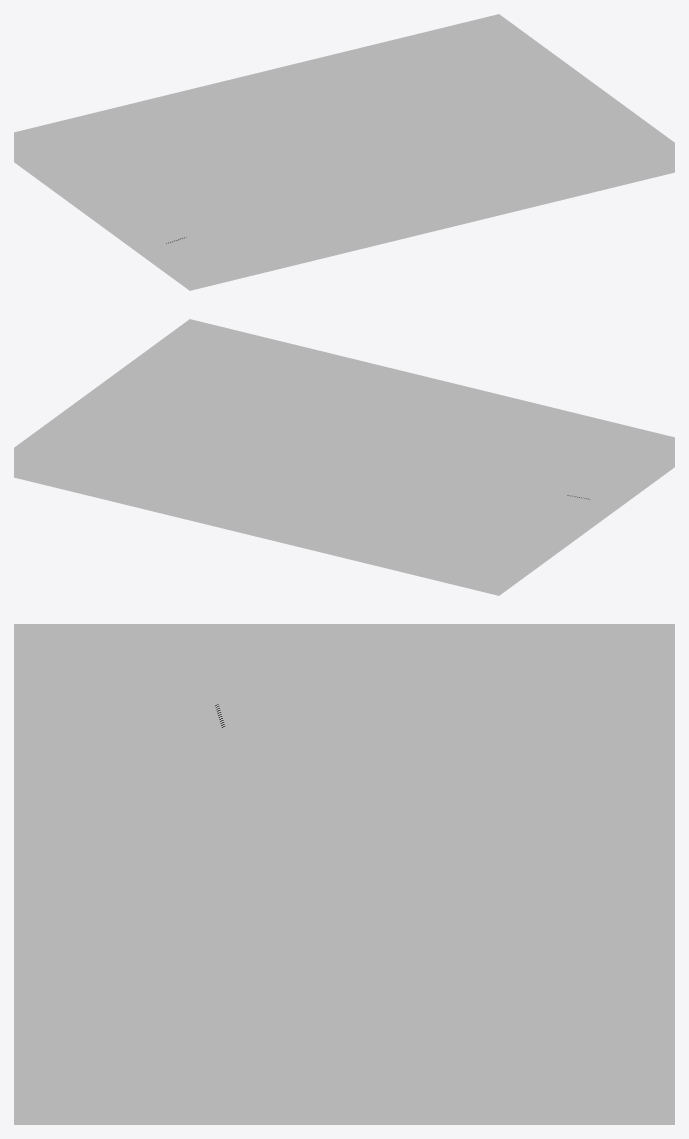
The model's file is 2022_august_open_ccw.dae.
The picture shows the model from 3 angles, top to bottom: view 1: azimuth 30°, elevation 25°; view 2: azimuth 150°, elevation 25°; view 3: azimuth 270°, elevation 25°; orthographic projection. The views are drawn at different scales.
Parts seen in each view (by area): view 1: field, wall, road, ol, il, cl; view 2: field, wall, road, ol, il, cl; view 3: field, wall, road, il, ol, cl.
Boxes of the visible parts, bbox=[...] form: field: bbox=[45, 44, 643, 260]; wall: bbox=[14, 14, 674, 290]; road: bbox=[99, 69, 543, 257]; ol: bbox=[129, 82, 513, 245]; il: bbox=[96, 68, 545, 258]; cl: bbox=[113, 75, 528, 252]; field: bbox=[45, 349, 643, 565]; wall: bbox=[14, 319, 674, 595]; road: bbox=[74, 421, 602, 556]; ol: bbox=[103, 434, 572, 543]; il: bbox=[72, 420, 605, 556]; cl: bbox=[88, 427, 587, 549]; field: bbox=[14, 680, 674, 1068]; wall: bbox=[14, 624, 674, 1124]; road: bbox=[65, 702, 623, 1068]; il: bbox=[61, 700, 627, 1068]; ol: bbox=[122, 725, 566, 1068]; cl: bbox=[93, 713, 595, 1068].
Size of the model in its own units: 17.04 by 10.7 by 1.
